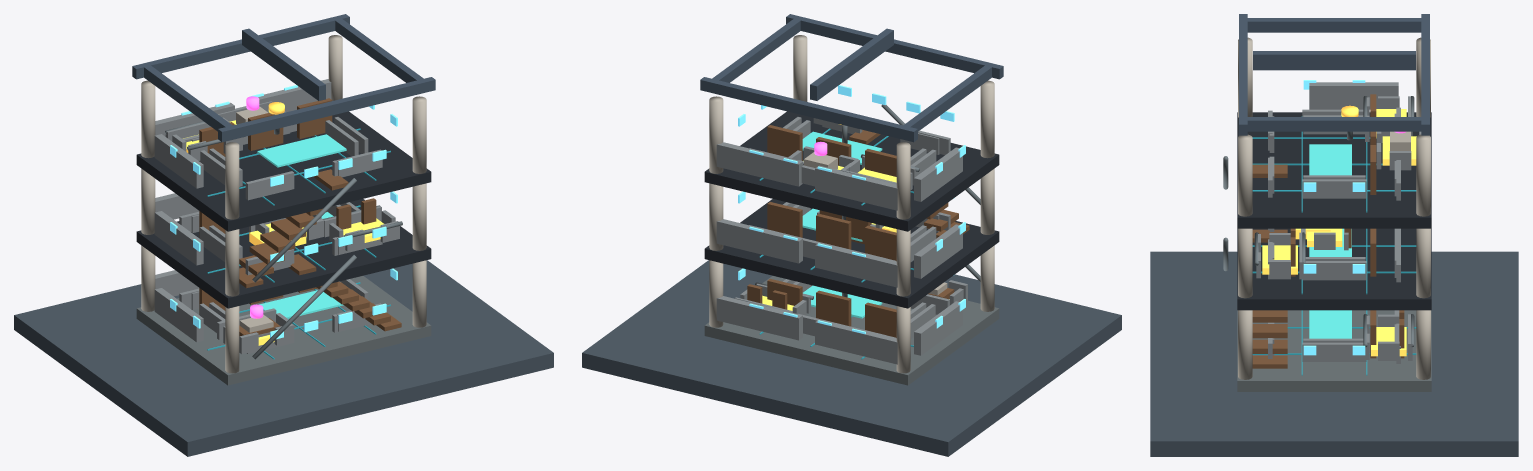
3 renders of one model, left to right at view 1: azimuth 30°, elevation 25°; view 2: azimuth 150°, elevation 25°; view 3: azimuth 270°, elevation 25°, orthographic. The views are drawn at different scales.
Parts seen in each view (by area): view 1: ProfileGround.012, BuildingFloor_3.005, BuildingFloor_1.009, BuildingFloor_2.009, RoofEaveSouth_visual_library, RoofEaveNorth_visual_library, RoofRidge_visual_library, Rug_visual_library_2, RoofEaveWest_visual_library, RoofEaveEast_visual_library, SideWall_3.005, SideWall_1.009 (+23 smaller); view 2: ProfileGround.012, BuildingFloor_3.005, BuildingFloor_2.009, BuildingFloor_1.009, RoofEaveNorth_visual_library, RoofEaveSouth_visual_library, BackWall_2_1.009, BackWall_1_1.009, BackWall_3_1.005, BackWall_2_-1.009, BackWall_1_-1.009, BackWall_3_-1.005 (+26 smaller); view 3: ProfileGround.012, BuildingFloor_3.005, BuildingFloor_2.009, BuildingFloor_1.009, RoofRidge_visual_library, RoofEaveWest_visual_library, RoofEaveEast_visual_library, SideWall_3.005, Rug_visual_library_2, Rug_visual_library_0, Column_3_1_-1.005, Column_3_1_1.005 (+25 smaller).
Boxes of the visible parts, x1,y1,x2,y2 form: ProfileGround.012: [14, 260, 553, 456]; BuildingFloor_3.005: [136, 111, 431, 231]; BuildingFloor_1.009: [136, 276, 431, 385]; BuildingFloor_2.009: [136, 199, 431, 308]; RoofEaveSouth_visual_library: [218, 77, 435, 142]; RoofEaveNorth_visual_library: [132, 14, 349, 79]; RoofRidge_visual_library: [242, 28, 325, 100]; Rug_visual_library_2: [257, 134, 346, 167]; RoofEaveWest_visual_library: [144, 65, 232, 131]; RoofEaveEast_visual_library: [335, 19, 423, 82]; SideWall_3.005: [154, 134, 203, 188]; SideWall_1.009: [154, 288, 203, 342]; ProfileGround.012: [582, 260, 1121, 456]; BuildingFloor_3.005: [704, 111, 999, 231]; BuildingFloor_2.009: [704, 199, 999, 308]; BuildingFloor_1.009: [704, 276, 999, 385]; RoofEaveNorth_visual_library: [700, 77, 917, 142]; RoofEaveSouth_visual_library: [786, 14, 1003, 79]; BackWall_2_1.009: [716, 219, 802, 263]; BackWall_1_1.009: [716, 296, 802, 340]; BackWall_3_1.005: [716, 142, 802, 186]; BackWall_2_-1.009: [815, 242, 897, 287]; BackWall_1_-1.009: [815, 319, 897, 364]; BackWall_3_-1.005: [815, 165, 897, 210]; ProfileGround.012: [1150, 251, 1518, 456]; BuildingFloor_3.005: [1237, 112, 1431, 228]; BuildingFloor_2.009: [1237, 228, 1431, 310]; BuildingFloor_1.009: [1237, 310, 1431, 391]; RoofRidge_visual_library: [1253, 51, 1415, 70]; RoofEaveWest_visual_library: [1247, 18, 1421, 32]; RoofEaveEast_visual_library: [1247, 117, 1421, 131]; SideWall_3.005: [1309, 82, 1398, 109]; Rug_visual_library_2: [1309, 144, 1351, 175]; Rug_visual_library_0: [1309, 310, 1351, 338]; Column_3_1_-1.005: [1238, 134, 1252, 216]; Column_3_1_1.005: [1416, 134, 1430, 216].
Size of the model in its own units: 5.18 by 3.94 by 4.26.
